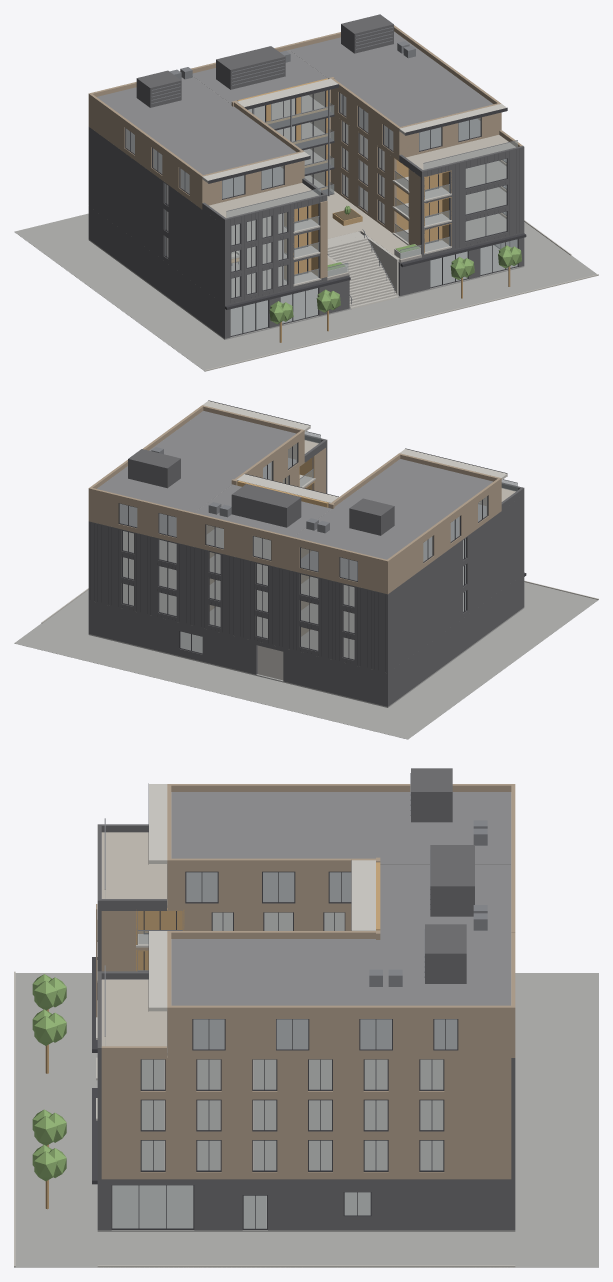
The model's file is clay-courtyard-mixed-use-midrise-clay-v006.glb.
3 views of the same model, one above another, from view 1: azimuth 30°, elevation 25°; view 2: azimuth 150°, elevation 25°; view 3: azimuth 270°, elevation 25° (orthographic). The views are drawn at different scales.
Visible parts, largest first — view 1: CLAY_WALL, CLAY_FOUNDATION, CLAY_MEMBRANE, CLAY_GLASS, CLAY_TAN, CLAY_TRIM, CLAY_FLOOR, CLAY_CONCRETE, CLAY_SAND, CLAY_CEDAR, CLAY_HARDWARE, CLAY_PALE (+3 smaller); view 2: CLAY_WALL, CLAY_FOUNDATION, CLAY_MEMBRANE, CLAY_TAN, CLAY_GLASS, CLAY_FLOOR, CLAY_TRIM, CLAY_JOINT, CLAY_PALE, CLAY_HARDWARE, CLAY_CEDAR; view 3: CLAY_TAN, CLAY_FOUNDATION, CLAY_MEMBRANE, CLAY_WALL, CLAY_GLASS, CLAY_FLOOR, CLAY_TRIM, CLAY_SAND, CLAY_PALE, CLAY_PLANTING, CLAY_STONE, CLAY_HARDWARE (+1 smaller).
Part boxes in pixels (x1,y1,x2,y2): CLAY_WALL: (88,14,524,338); CLAY_FOUNDATION: (14,212,596,371); CLAY_MEMBRANE: (97,31,505,198); CLAY_GLASS: (125,91,517,335); CLAY_TAN: (88,25,522,278); CLAY_TRIM: (124,84,526,336); CLAY_FLOOR: (166,54,506,297); CLAY_CONCRETE: (284,176,451,309); CLAY_SAND: (209,135,515,277); CLAY_CEDAR: (237,78,451,279); CLAY_HARDWARE: (151,27,517,304); CLAY_PALE: (202,78,506,182); CLAY_WALL: (88,434,524,706); CLAY_FOUNDATION: (14,582,598,739); CLAY_MEMBRANE: (97,411,493,580); CLAY_TAN: (88,405,501,636); CLAY_GLASS: (119,432,517,659); CLAY_FLOOR: (123,480,465,659); CLAY_TRIM: (118,400,526,660); CLAY_JOINT: (90,523,385,671); CLAY_PALE: (203,401,507,680); CLAY_HARDWARE: (151,431,517,533); CLAY_CEDAR: (237,456,328,507); CLAY_TAN: (96,784,515,1179); CLAY_FOUNDATION: (14,973,598,1267); CLAY_MEMBRANE: (102,792,510,1051); CLAY_WALL: (97,768,515,1230); CLAY_GLASS: (105,872,457,1228); CLAY_FLOOR: (101,792,511,1170); CLAY_TRIM: (92,783,458,1229); CLAY_SAND: (102,832,166,1046); CLAY_PALE: (149,784,375,1011); CLAY_PLANTING: (32,974,66,1181); CLAY_STONE: (14,971,515,1267); CLAY_HARDWARE: (104,773,487,1036).
Bounding box in the file's own units: 50 × 20.66 × 42.
